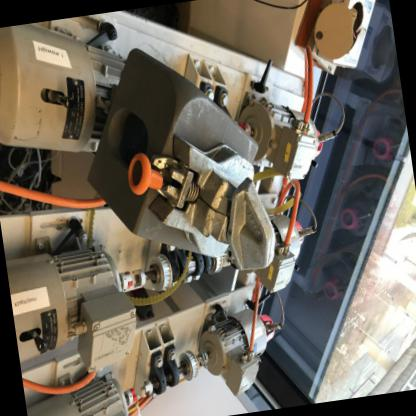CornerCasting: (68, 29, 266, 212)
Twistlock: (122, 121, 282, 291)
